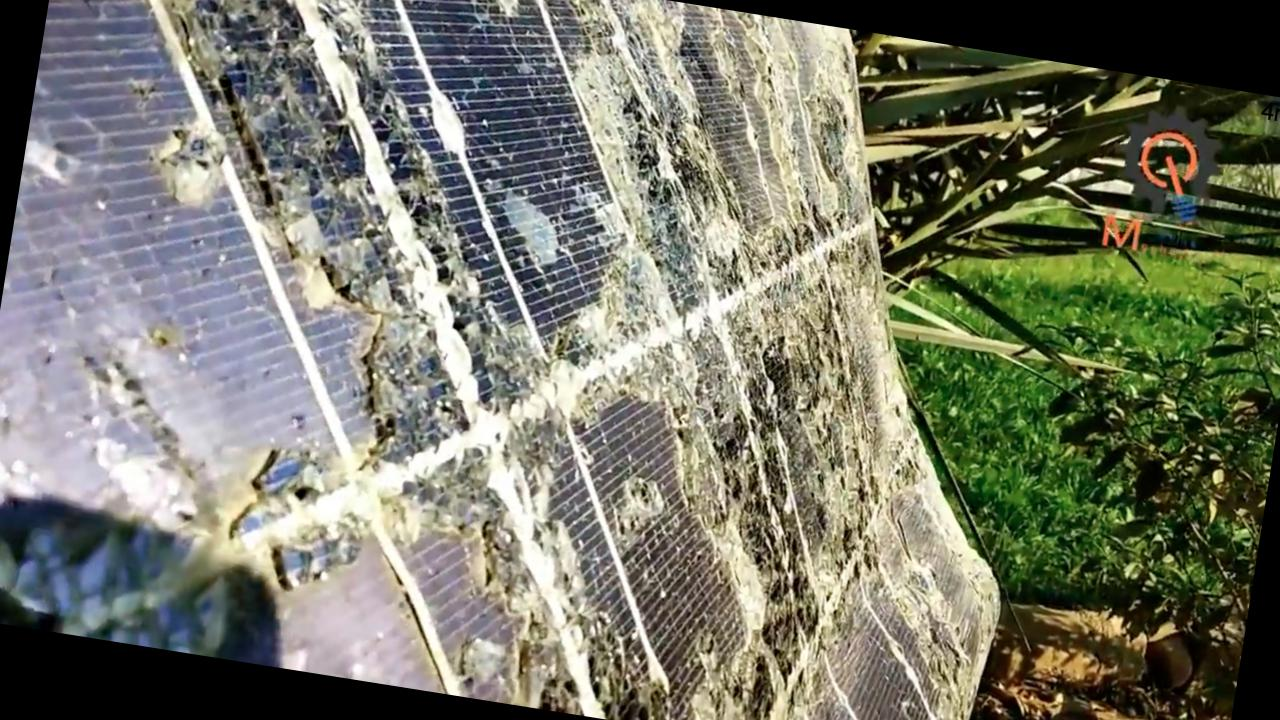Crack: (241, 0, 453, 278), (360, 312, 564, 534), (659, 374, 826, 548), (698, 218, 850, 373), (557, 0, 697, 138)
